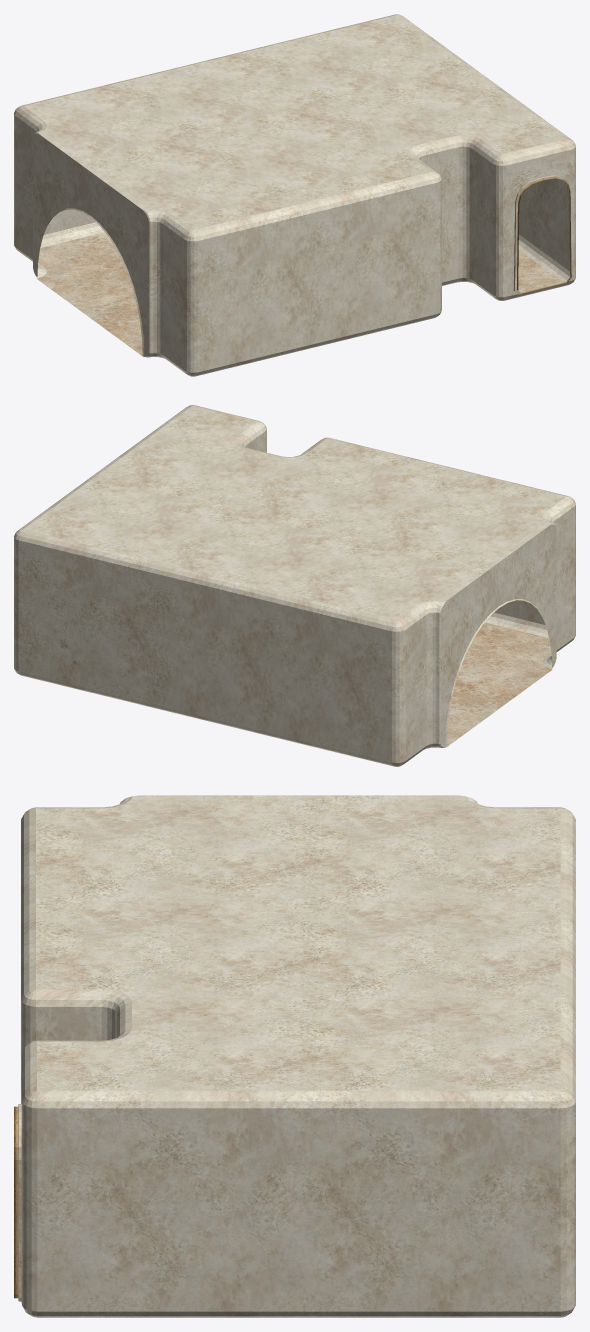
File: ply_tato_house_m_s01_fp1_r2_foyer_mesh_r2.fbx
The picture shows the model from 3 angles, top to bottom: view 1: azimuth 30°, elevation 25°; view 2: azimuth 150°, elevation 25°; view 3: azimuth 270°, elevation 25°; orthographic projection. The views are drawn at different scales.
Parts seen in each view (by area): view 1: mesh_node; view 2: mesh_node; view 3: mesh_node.
Boxes of the visible parts, box(x1,y1,x2,y2) form: mesh_node: box(14, 14, 575, 376); mesh_node: box(14, 405, 575, 766); mesh_node: box(14, 795, 575, 1317).
Size of the model in its own units: 11.61 by 4.05 by 9.12.
